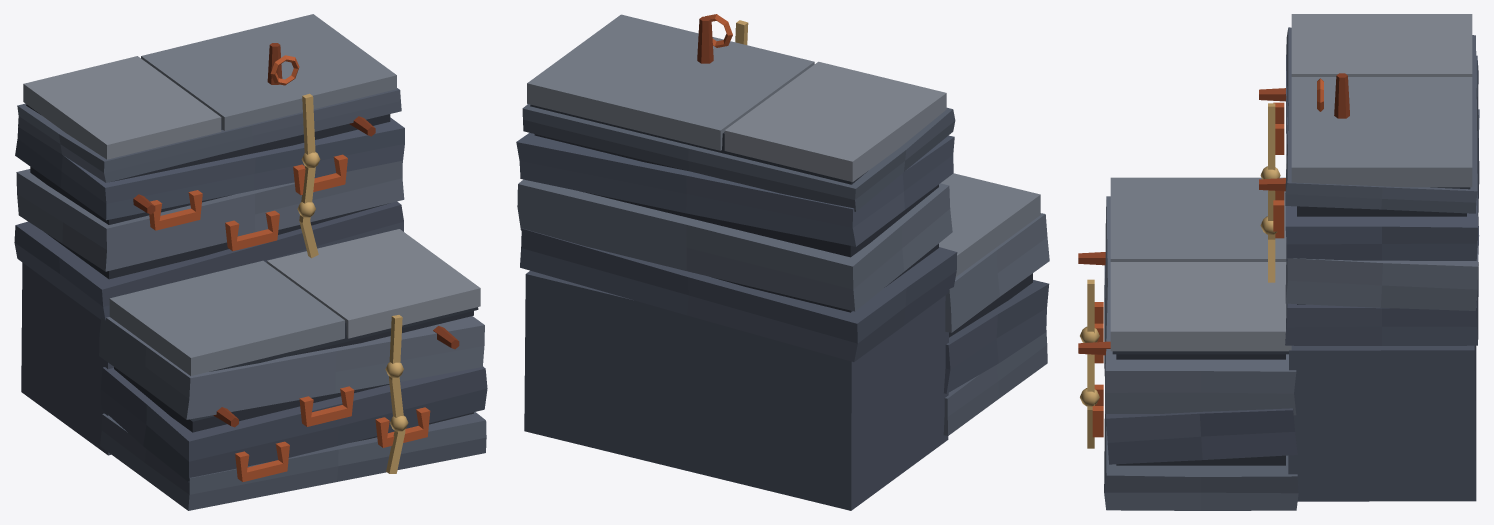
The model's file is climb_wall_slate.glb.
3 views of the same model, side by side, from view 1: azimuth 30°, elevation 25°; view 2: azimuth 150°, elevation 25°; view 3: azimuth 270°, elevation 25° (orthographic). The views are drawn at different scales.
Visible parts, largest first — view 1: climb_wall_slate; view 2: climb_wall_slate; view 3: climb_wall_slate.
Boxes of the visible parts, left/top/right/bottom form: climb_wall_slate: left=14, top=14, right=487, bottom=510; climb_wall_slate: left=516, top=14, right=1049, bottom=510; climb_wall_slate: left=1078, top=14, right=1479, bottom=510.
Bounding box in the file's own units: 1.05 × 1.16 × 1.11.
